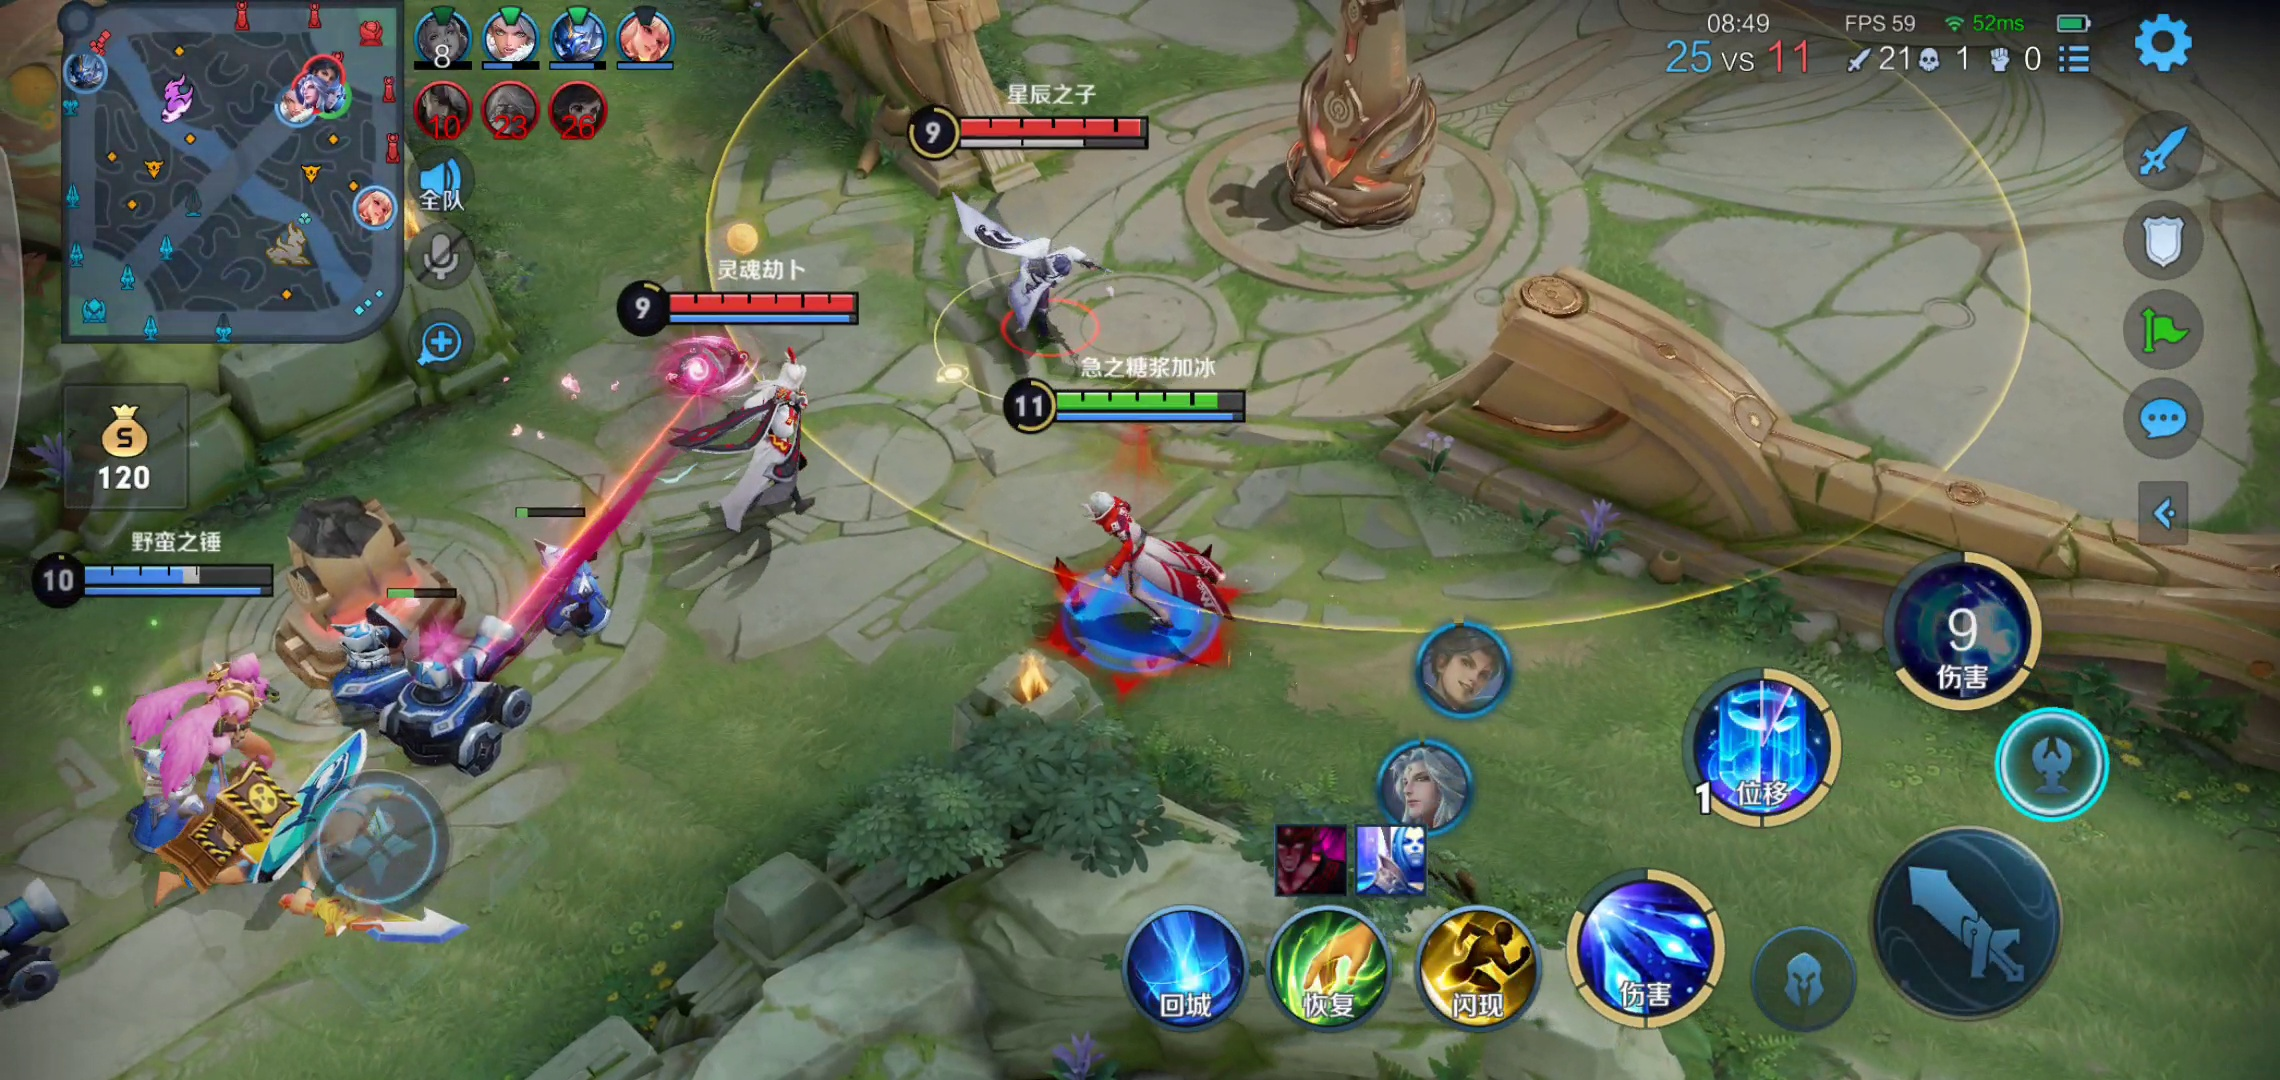hero: (923, 188, 1115, 372), (1066, 478, 1237, 682), (682, 359, 864, 538), (124, 658, 316, 794)
soldier: (500, 525, 627, 648), (406, 664, 544, 769), (323, 608, 422, 730), (1, 885, 87, 988)
tower: (1285, 1, 1450, 238)
